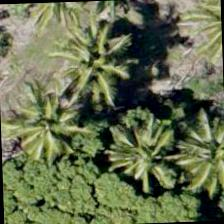Kelapa_Sawit: (46, 3, 140, 96), (89, 104, 182, 196), (0, 83, 89, 177), (164, 105, 223, 199)
